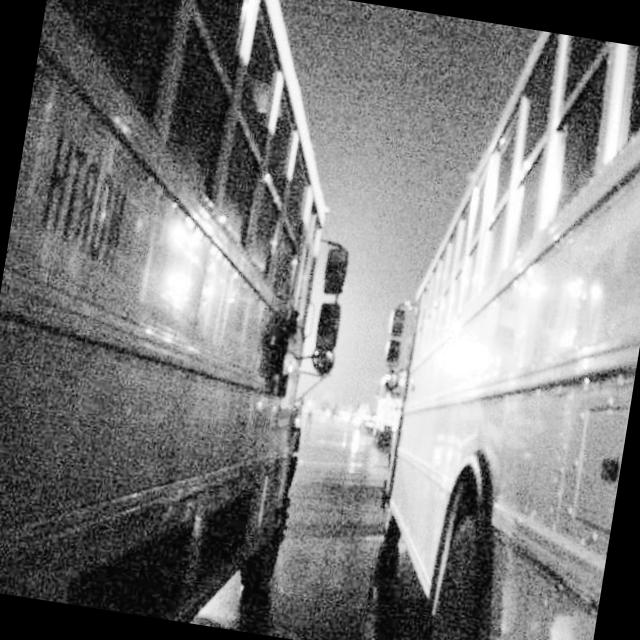Bus: (0, 0, 374, 637), (371, 20, 640, 640)
